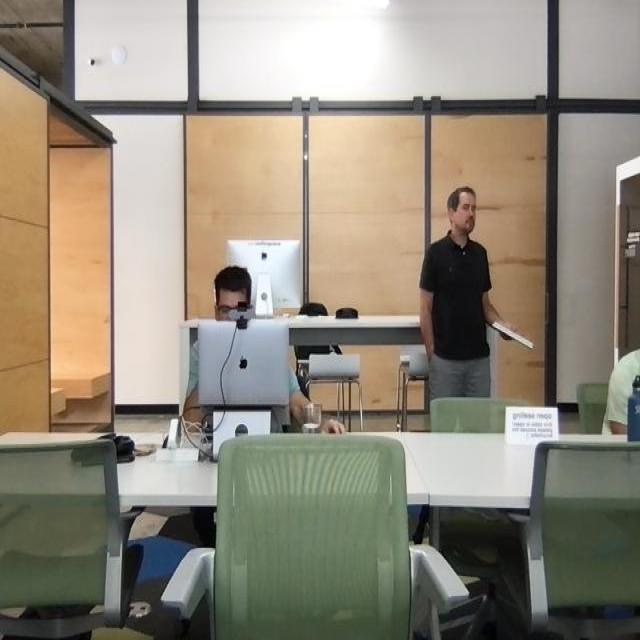face: (214, 280, 250, 321), (448, 187, 477, 234)
